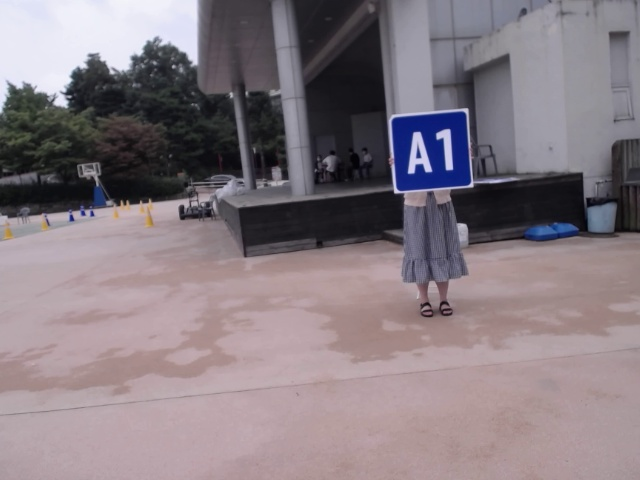delivery_a1: (391, 111, 472, 192)
